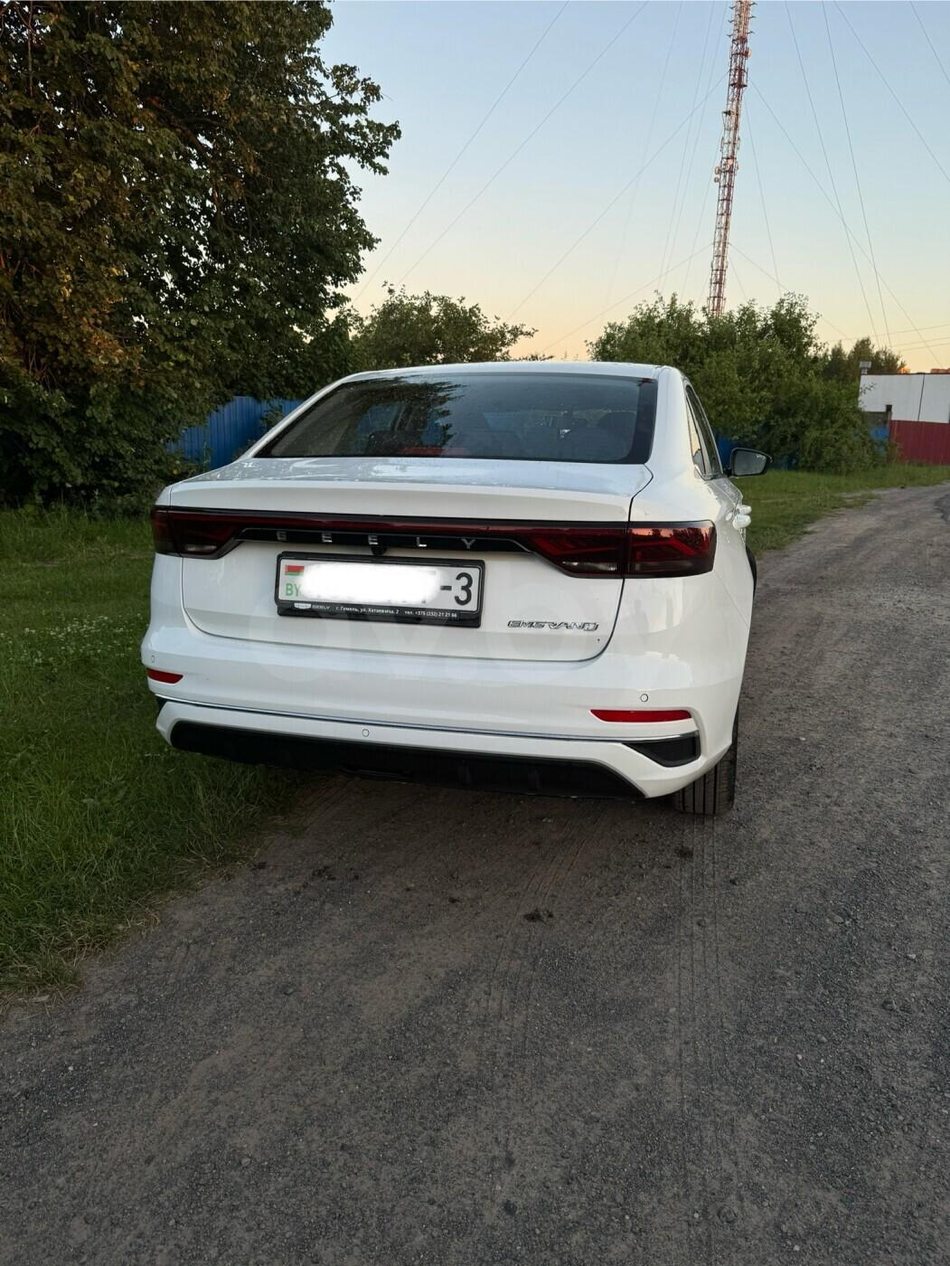Emgrand_2021: (137, 360, 767, 827)
